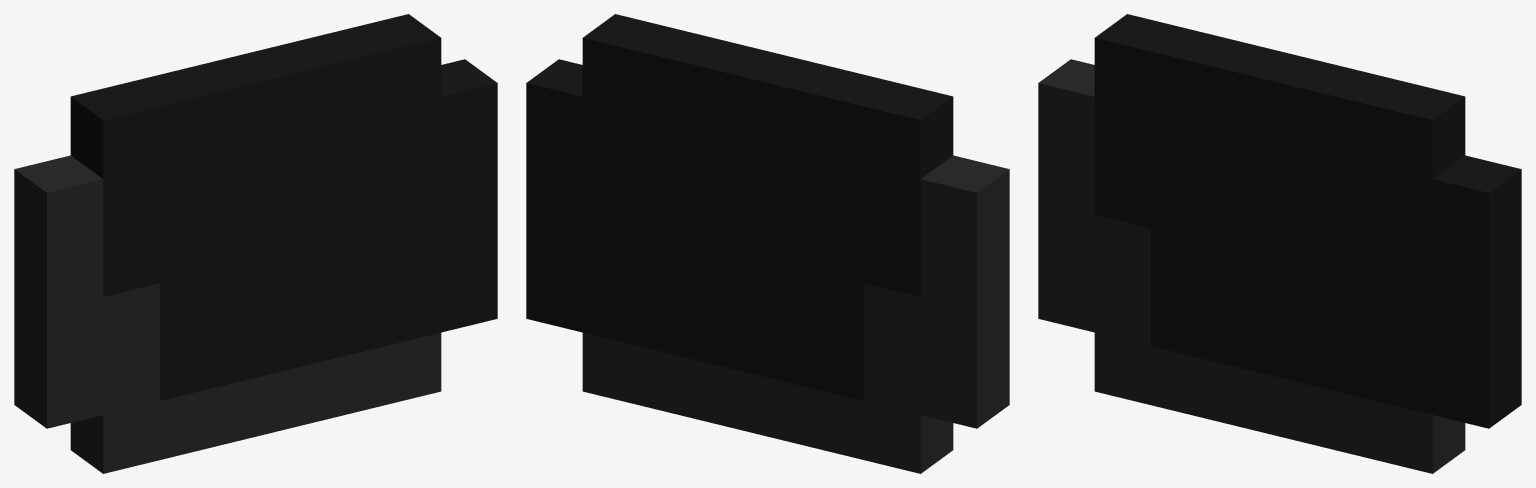
The model's file is talaspa5.obj.
The picture shows the model from 3 angles, left to right: view 1: azimuth 30°, elevation 25°; view 2: azimuth 150°, elevation 25°; view 3: azimuth 330°, elevation 25°; orthographic projection.
Parts seen in each view (by area): view 1: taladro5.001; view 2: taladro5.001; view 3: taladro5.001.
Part boxes in pixels (left/top/right/bottom): taladro5.001: left=14, top=14, right=497, bottom=473; taladro5.001: left=526, top=14, right=1009, bottom=473; taladro5.001: left=1038, top=14, right=1521, bottom=473.
Bounding box in the file's own units: 0.8 × 0.6 × 0.1.
